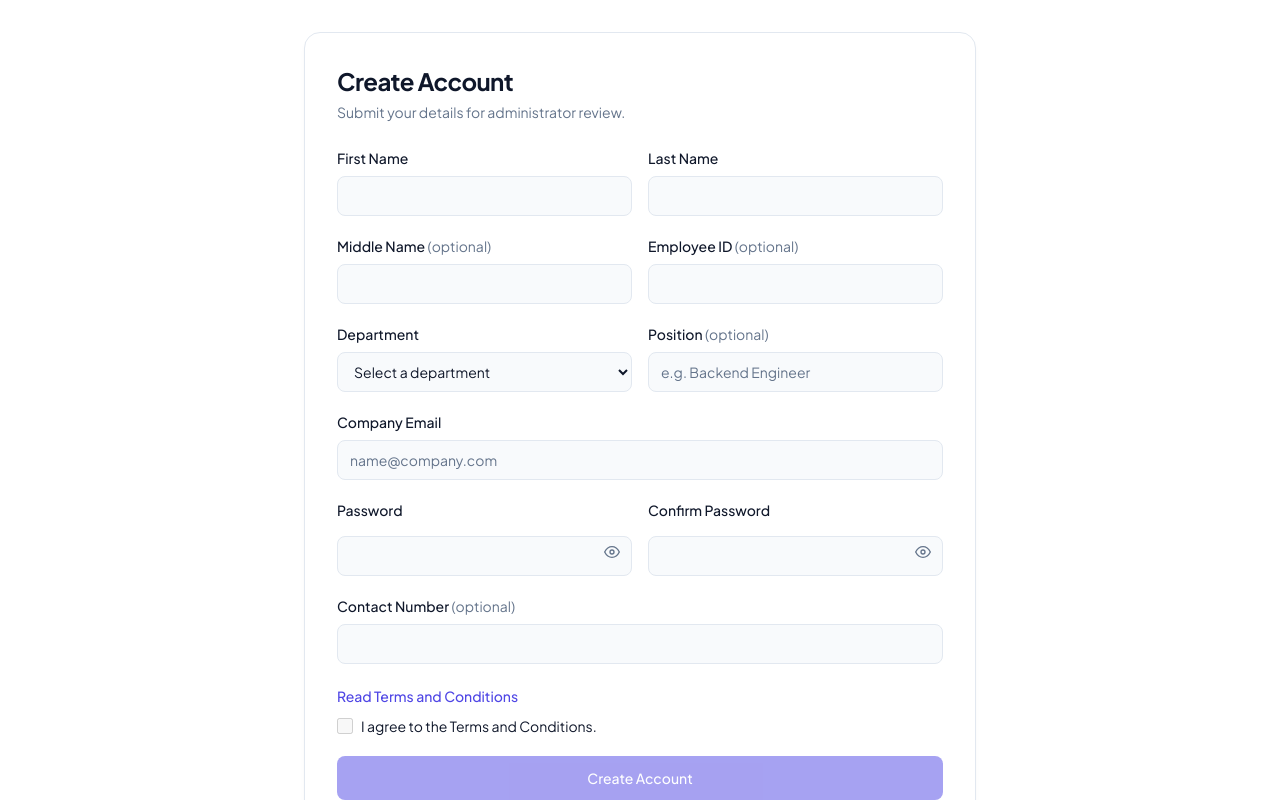
Test case: RegisterPage › disables Create Account until the terms are accepted
expect the button "Create Account" is disabled: met, box x1=337 y1=756 x2=943 y2=799
Click the button "Read Terms and Conditions".
click(428, 696)  # box x1=337 y1=686 x2=518 y2=706
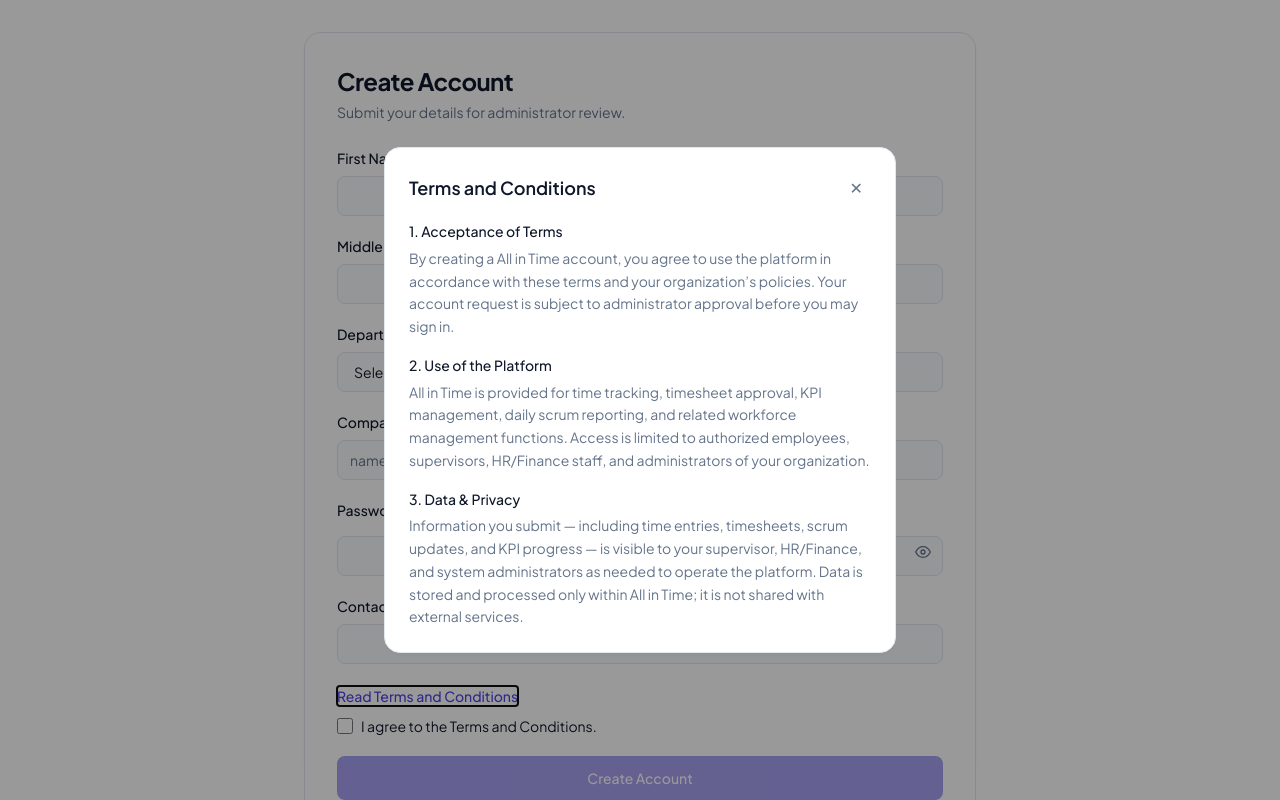
Click the button named "Close".
click(856, 188)  # box x1=842 y1=172 x2=871 y2=204
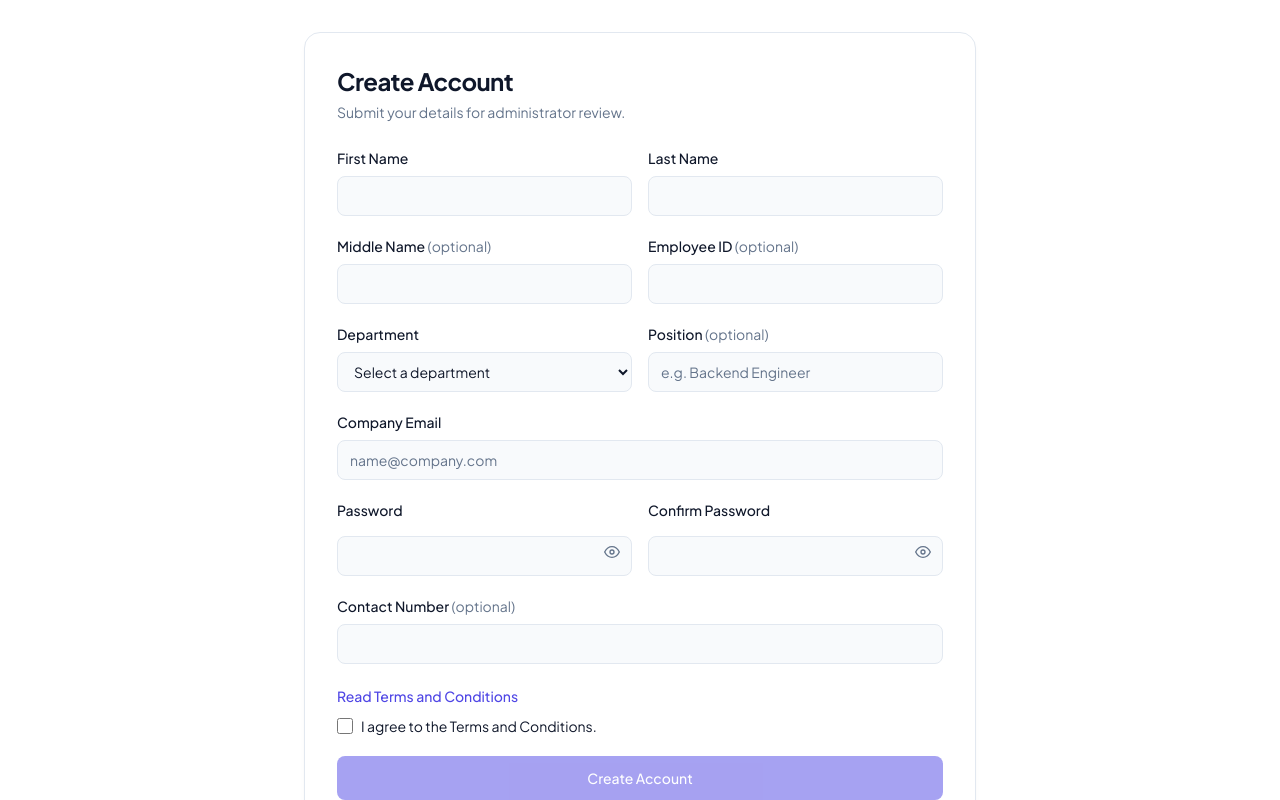
expect the button "Create Account" is disabled: met, box x1=337 y1=756 x2=943 y2=799
Click the checkbox labelled "I agree to the Terms and Conditions.".
click(345, 726)  # box x1=337 y1=718 x2=353 y2=734
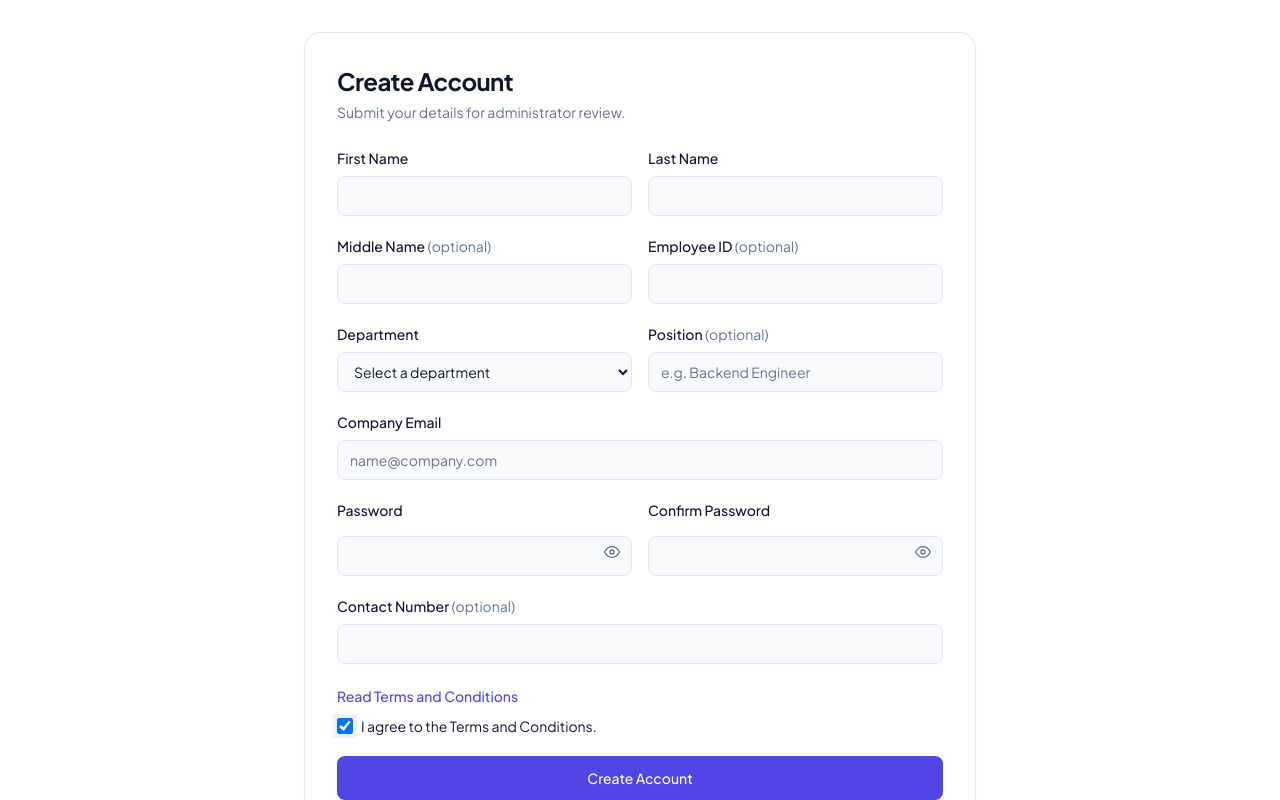
expect the button "Create Account" is enabled: met, box x1=337 y1=756 x2=943 y2=799
